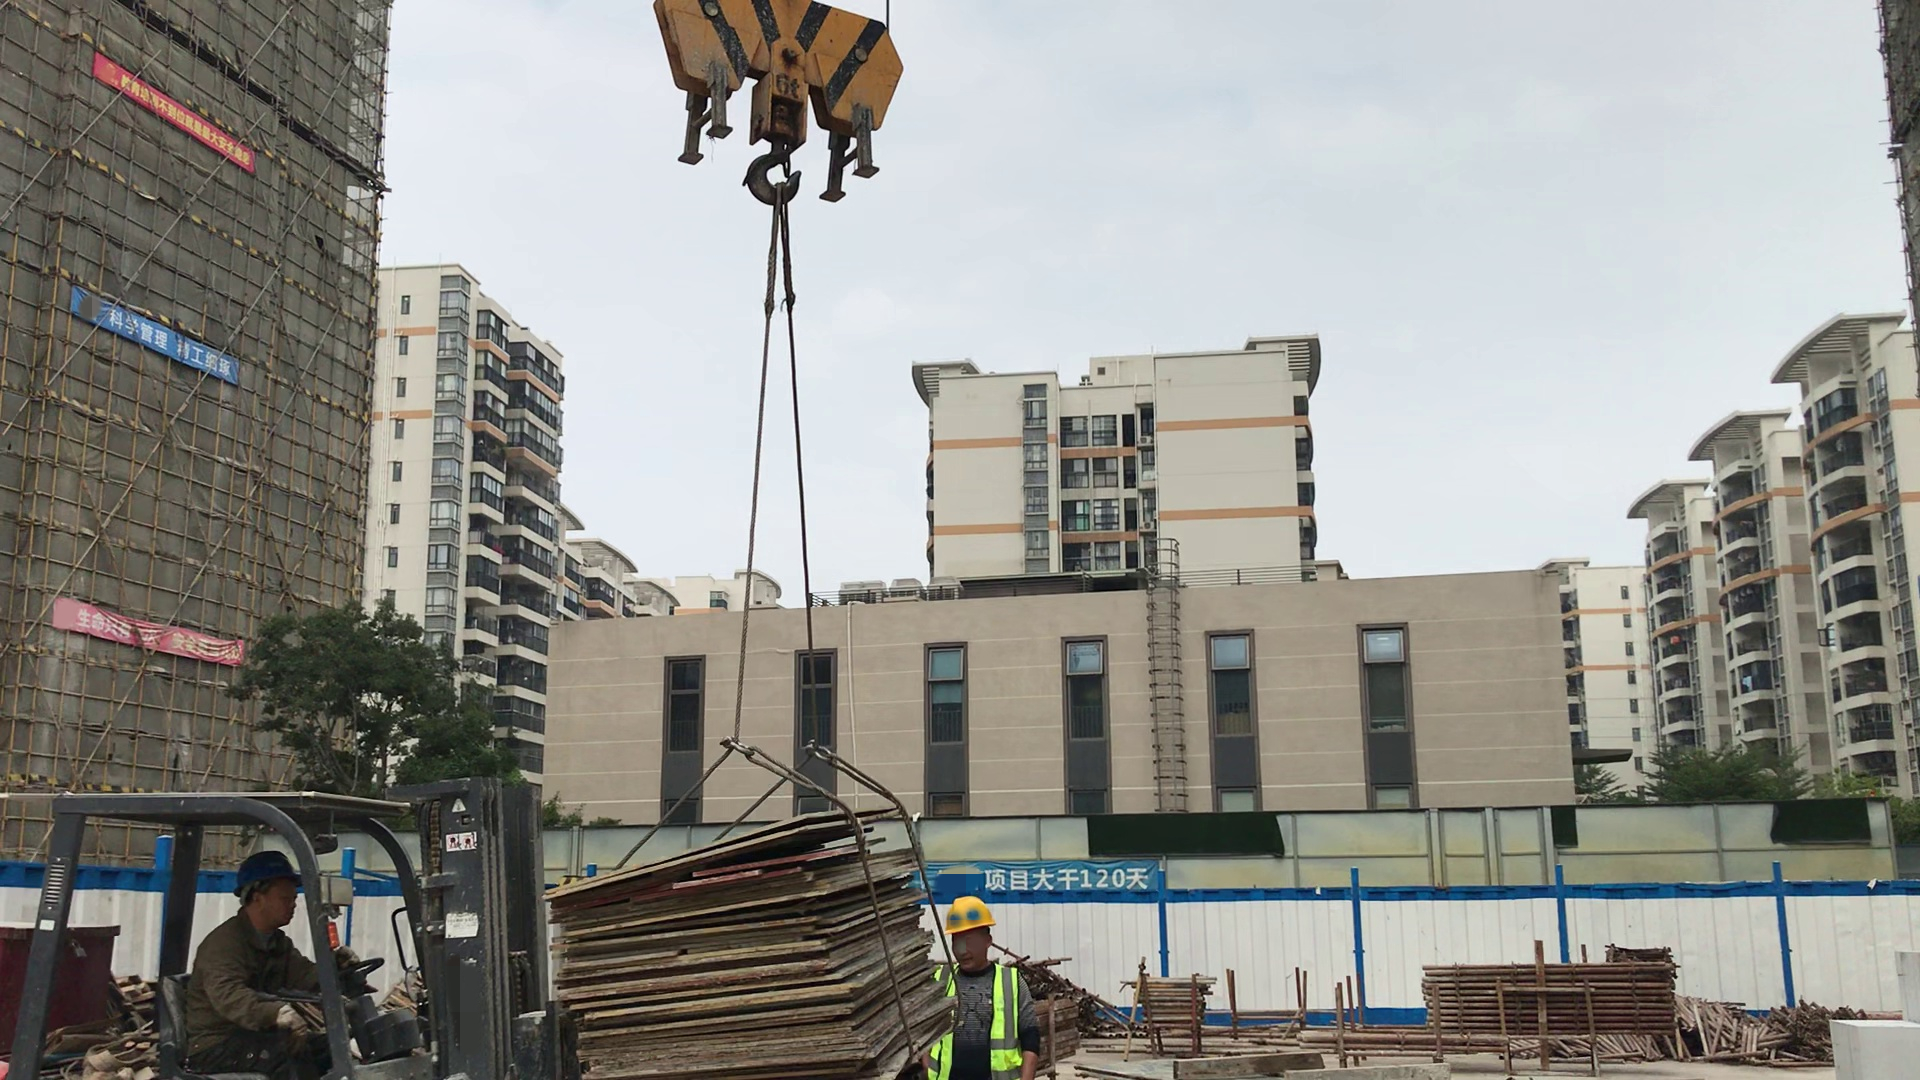board: (541, 809, 929, 1080)
brick: (1824, 946, 1917, 1080)
helmet: (230, 854, 301, 896), (940, 894, 998, 938)
hook: (646, 1, 907, 245)
person: (178, 852, 396, 1069), (905, 887, 1080, 1080)
slogan: (97, 45, 259, 167), (67, 286, 245, 385), (53, 597, 255, 670), (992, 860, 1148, 894)
vest: (929, 960, 1027, 1080)
